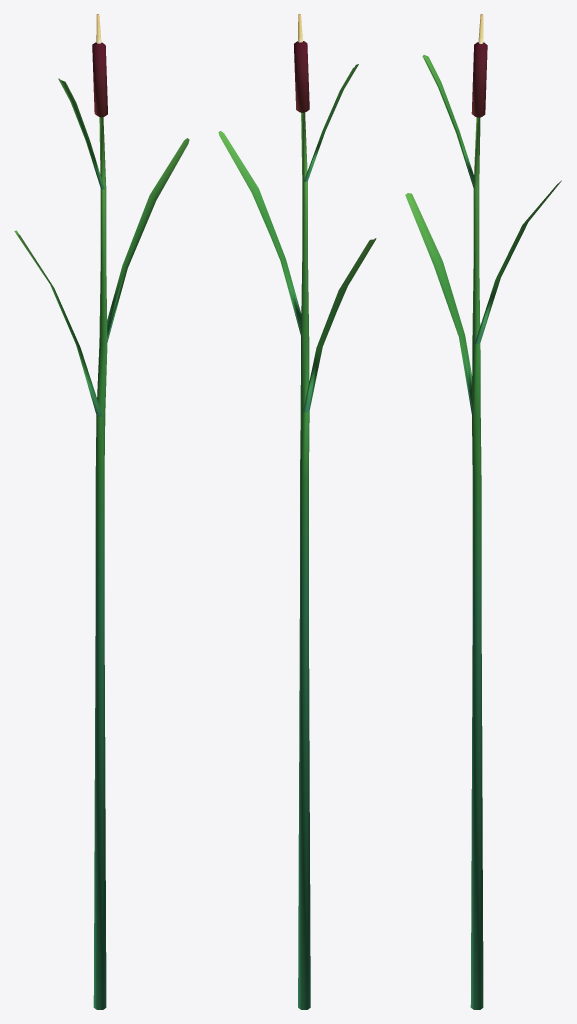
File: cattail-3.fbx
The picture shows the model from 3 angles, left to right: view 1: azimuth 30°, elevation 25°; view 2: azimuth 150°, elevation 25°; view 3: azimuth 330°, elevation 25°; orthographic projection.
Visible parts, largest first — view 1: cattail-3; view 2: cattail-3; view 3: cattail-3.
Boxes of the visible parts, <box> form: cattail-3: <box>14,14,189,1009</box>; cattail-3: <box>218,14,376,1009</box>; cattail-3: <box>405,14,561,1009</box>.
Bounding box in the file's own units: 20.64 × 119 × 3.81.
